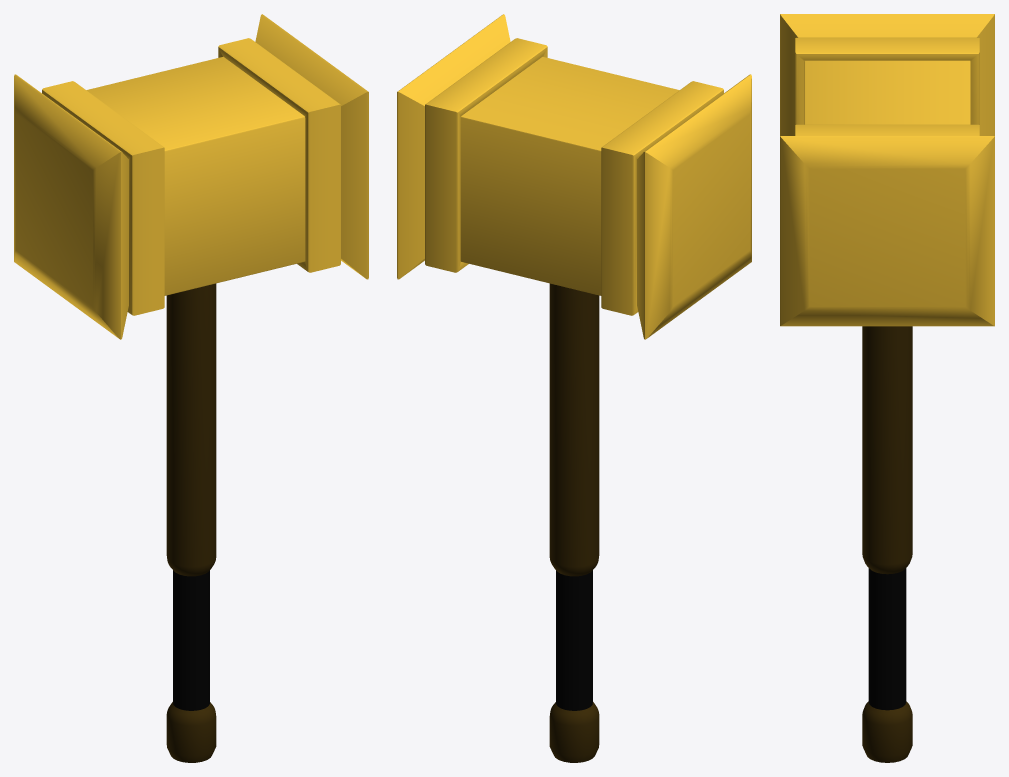
File: OneHand_Hammer_Gold.obj
3 views of the same model, side by side, from view 1: azimuth 30°, elevation 25°; view 2: azimuth 150°, elevation 25°; view 3: azimuth 270°, elevation 25° (orthographic).
Visible parts, largest first — view 1: OneHand_Hammer_Gold_Cube; view 2: OneHand_Hammer_Gold_Cube; view 3: OneHand_Hammer_Gold_Cube.
Boxes of the visible parts, x1,y1,x2,y2 form: OneHand_Hammer_Gold_Cube: (14,14,368,762); OneHand_Hammer_Gold_Cube: (397,14,751,762); OneHand_Hammer_Gold_Cube: (780,14,994,762).
Bounding box in the file's own units: 2.82 × 6.63 × 1.89.
